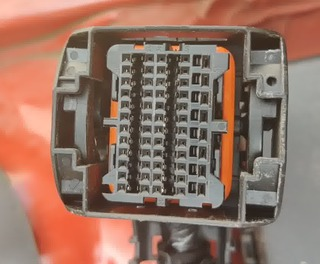connector: (51, 25, 289, 228)
